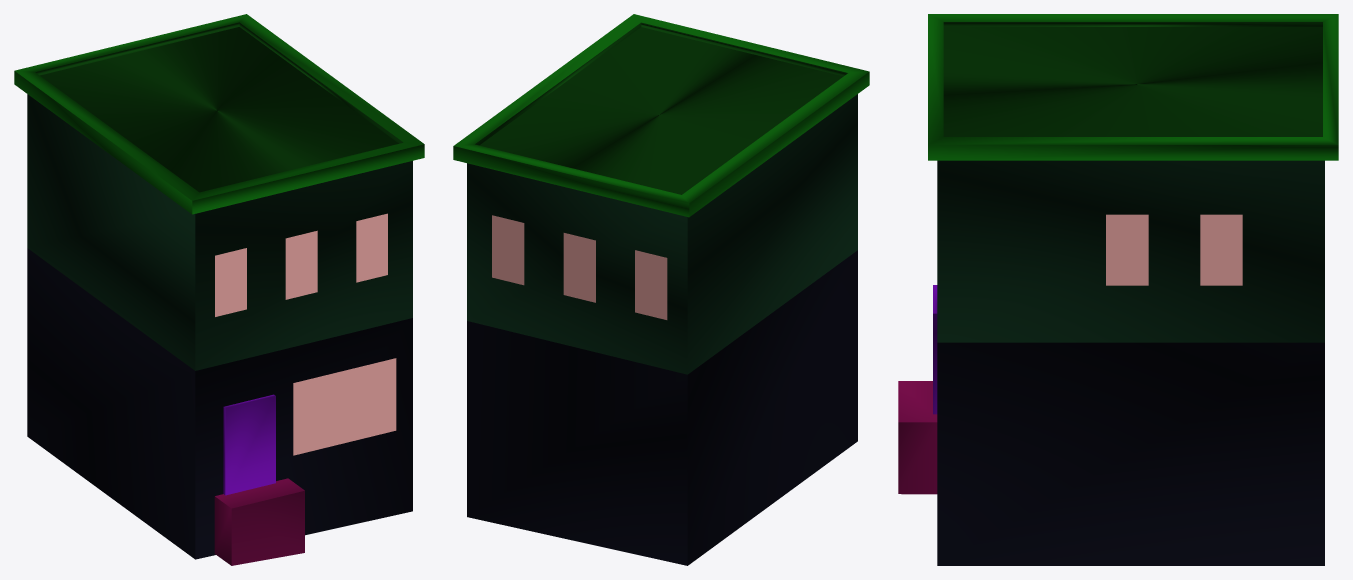
Rendered from Building 3.fbx.
3 renders of one model, left to right at view 1: azimuth 30°, elevation 25°; view 2: azimuth 150°, elevation 25°; view 3: azimuth 270°, elevation 25°, orthographic. The views are drawn at different scales.
Visible parts, largest first — view 1: Cube.002; view 2: Cube.002; view 3: Cube.002.
Boxes of the visible parts, box(x1,y1,x2,y2) form: Cube.002: box(14, 14, 424, 565); Cube.002: box(453, 14, 869, 565); Cube.002: box(898, 14, 1338, 565).
Bounding box in the file's own units: 1084 × 1642 × 1540.
